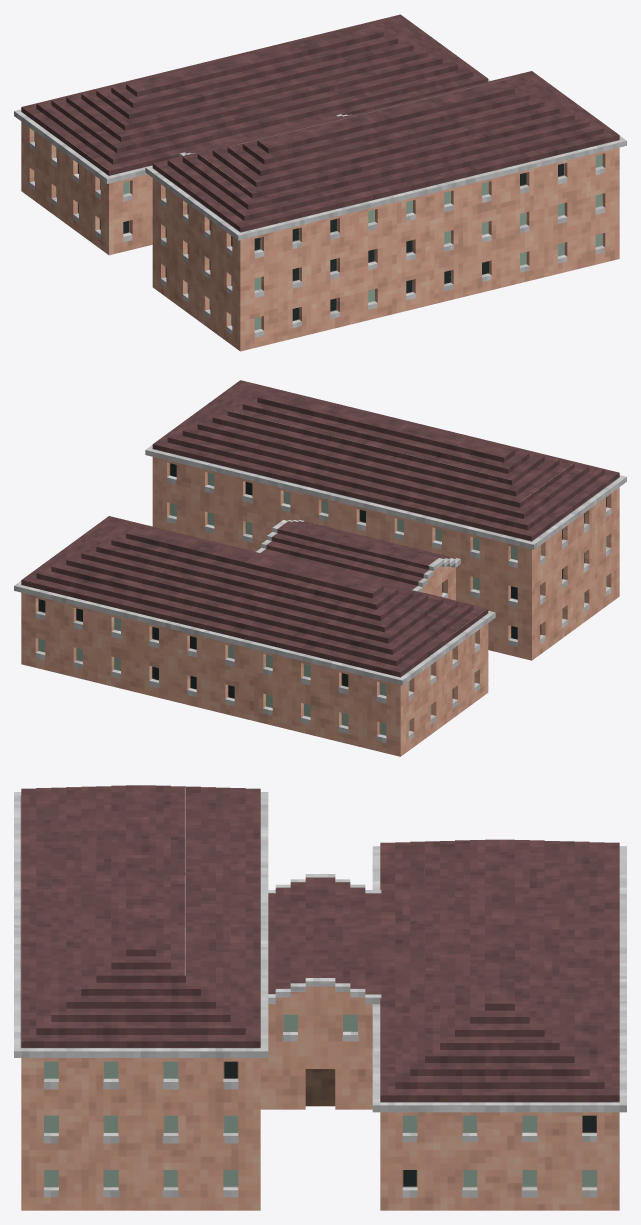
The model's file is life.fbx.
The picture shows the model from 3 angles, top to bottom: view 1: azimuth 30°, elevation 25°; view 2: azimuth 150°, elevation 25°; view 3: azimuth 270°, elevation 25°; orthographic projection. The views are drawn at different scales.
Parts seen in each view (by area): view 1: Life; view 2: Life; view 3: Life.
Part boxes in pixels (x1=…): Life: x1=14, y1=14, x2=626, y2=351; Life: x1=14, y1=380, x2=626, y2=756; Life: x1=14, y1=785, x2=626, y2=1210.
Bounding box in the file's own units: 512 × 200 × 513.
1 material, 1 textured.
